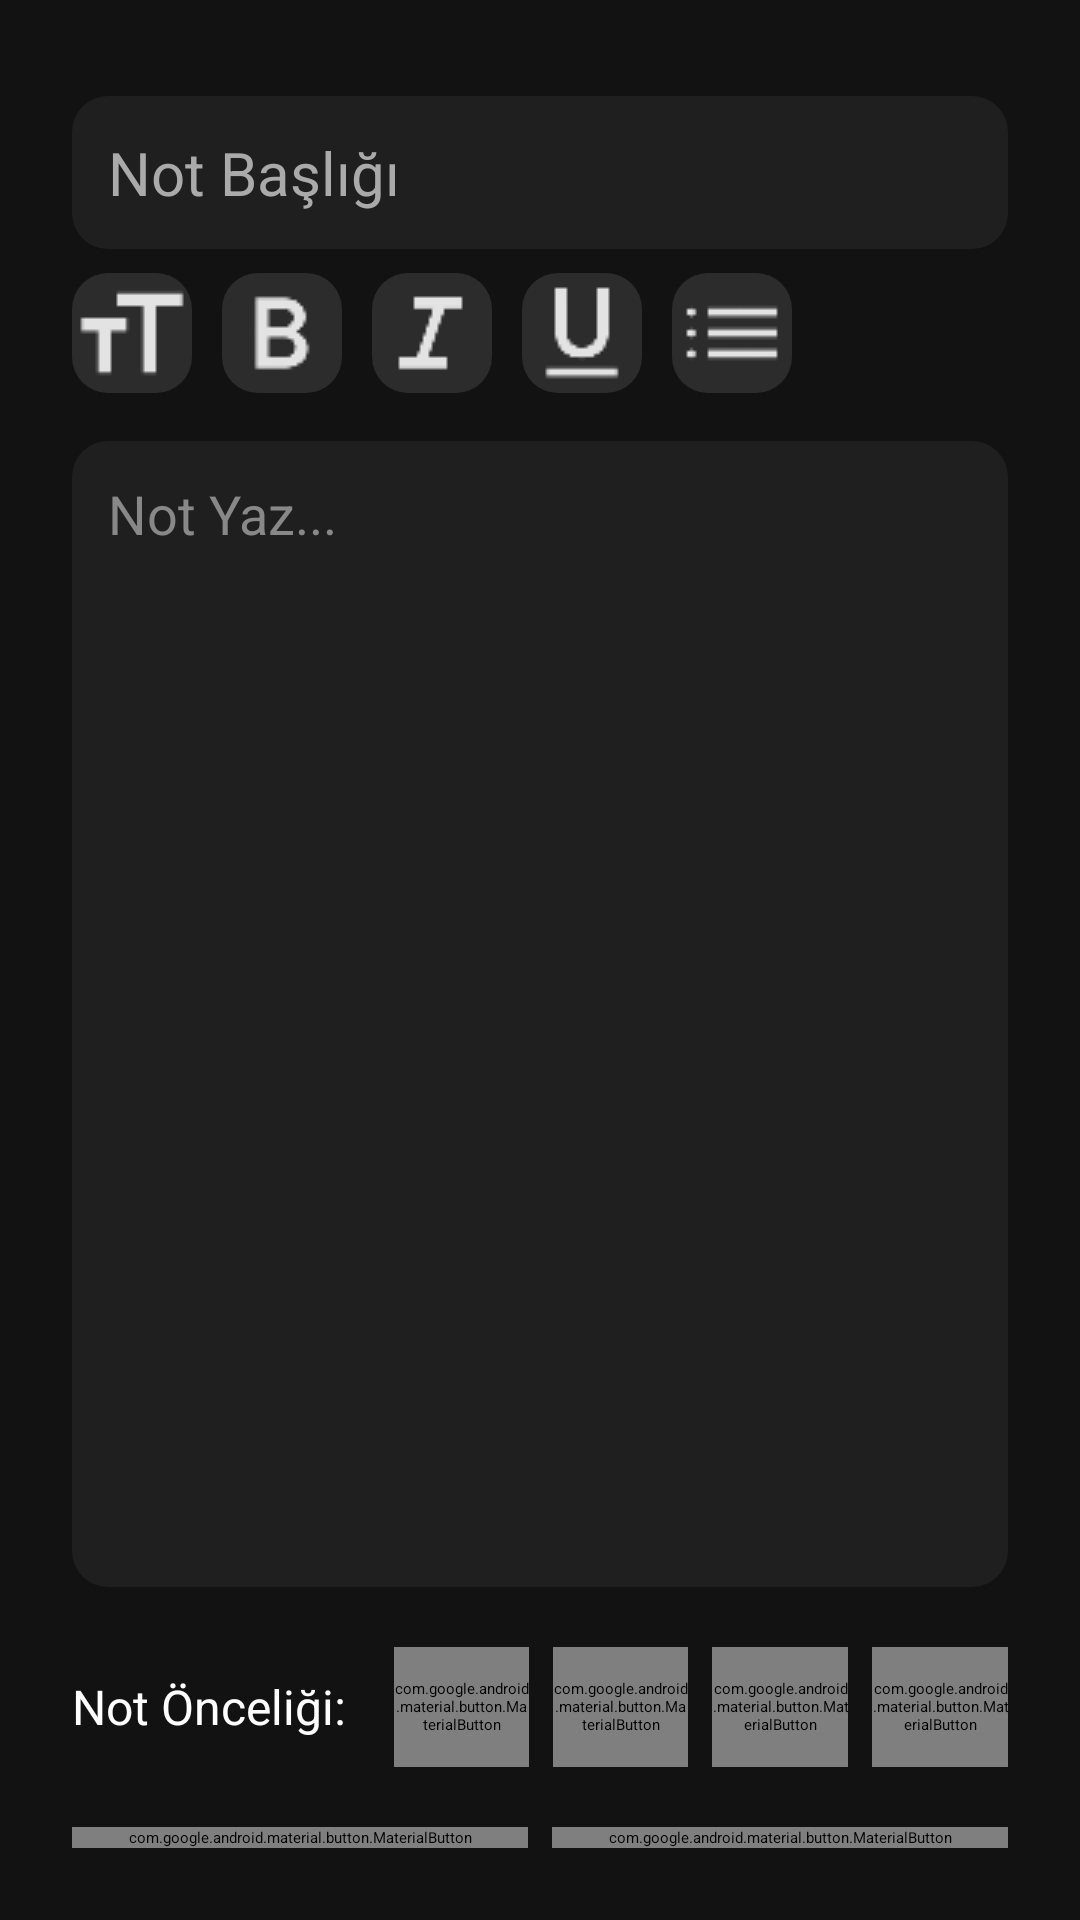

Where to tap for icons on this 1080 x 1920 app screen, as [x,y]:
Altı Çizili Yazı: [582,333]
İtalik Yazı: [432,333]
Kalın Yazı: [282,333]
Madde: [732,333]
Yazı Boyutu: [132,333]
